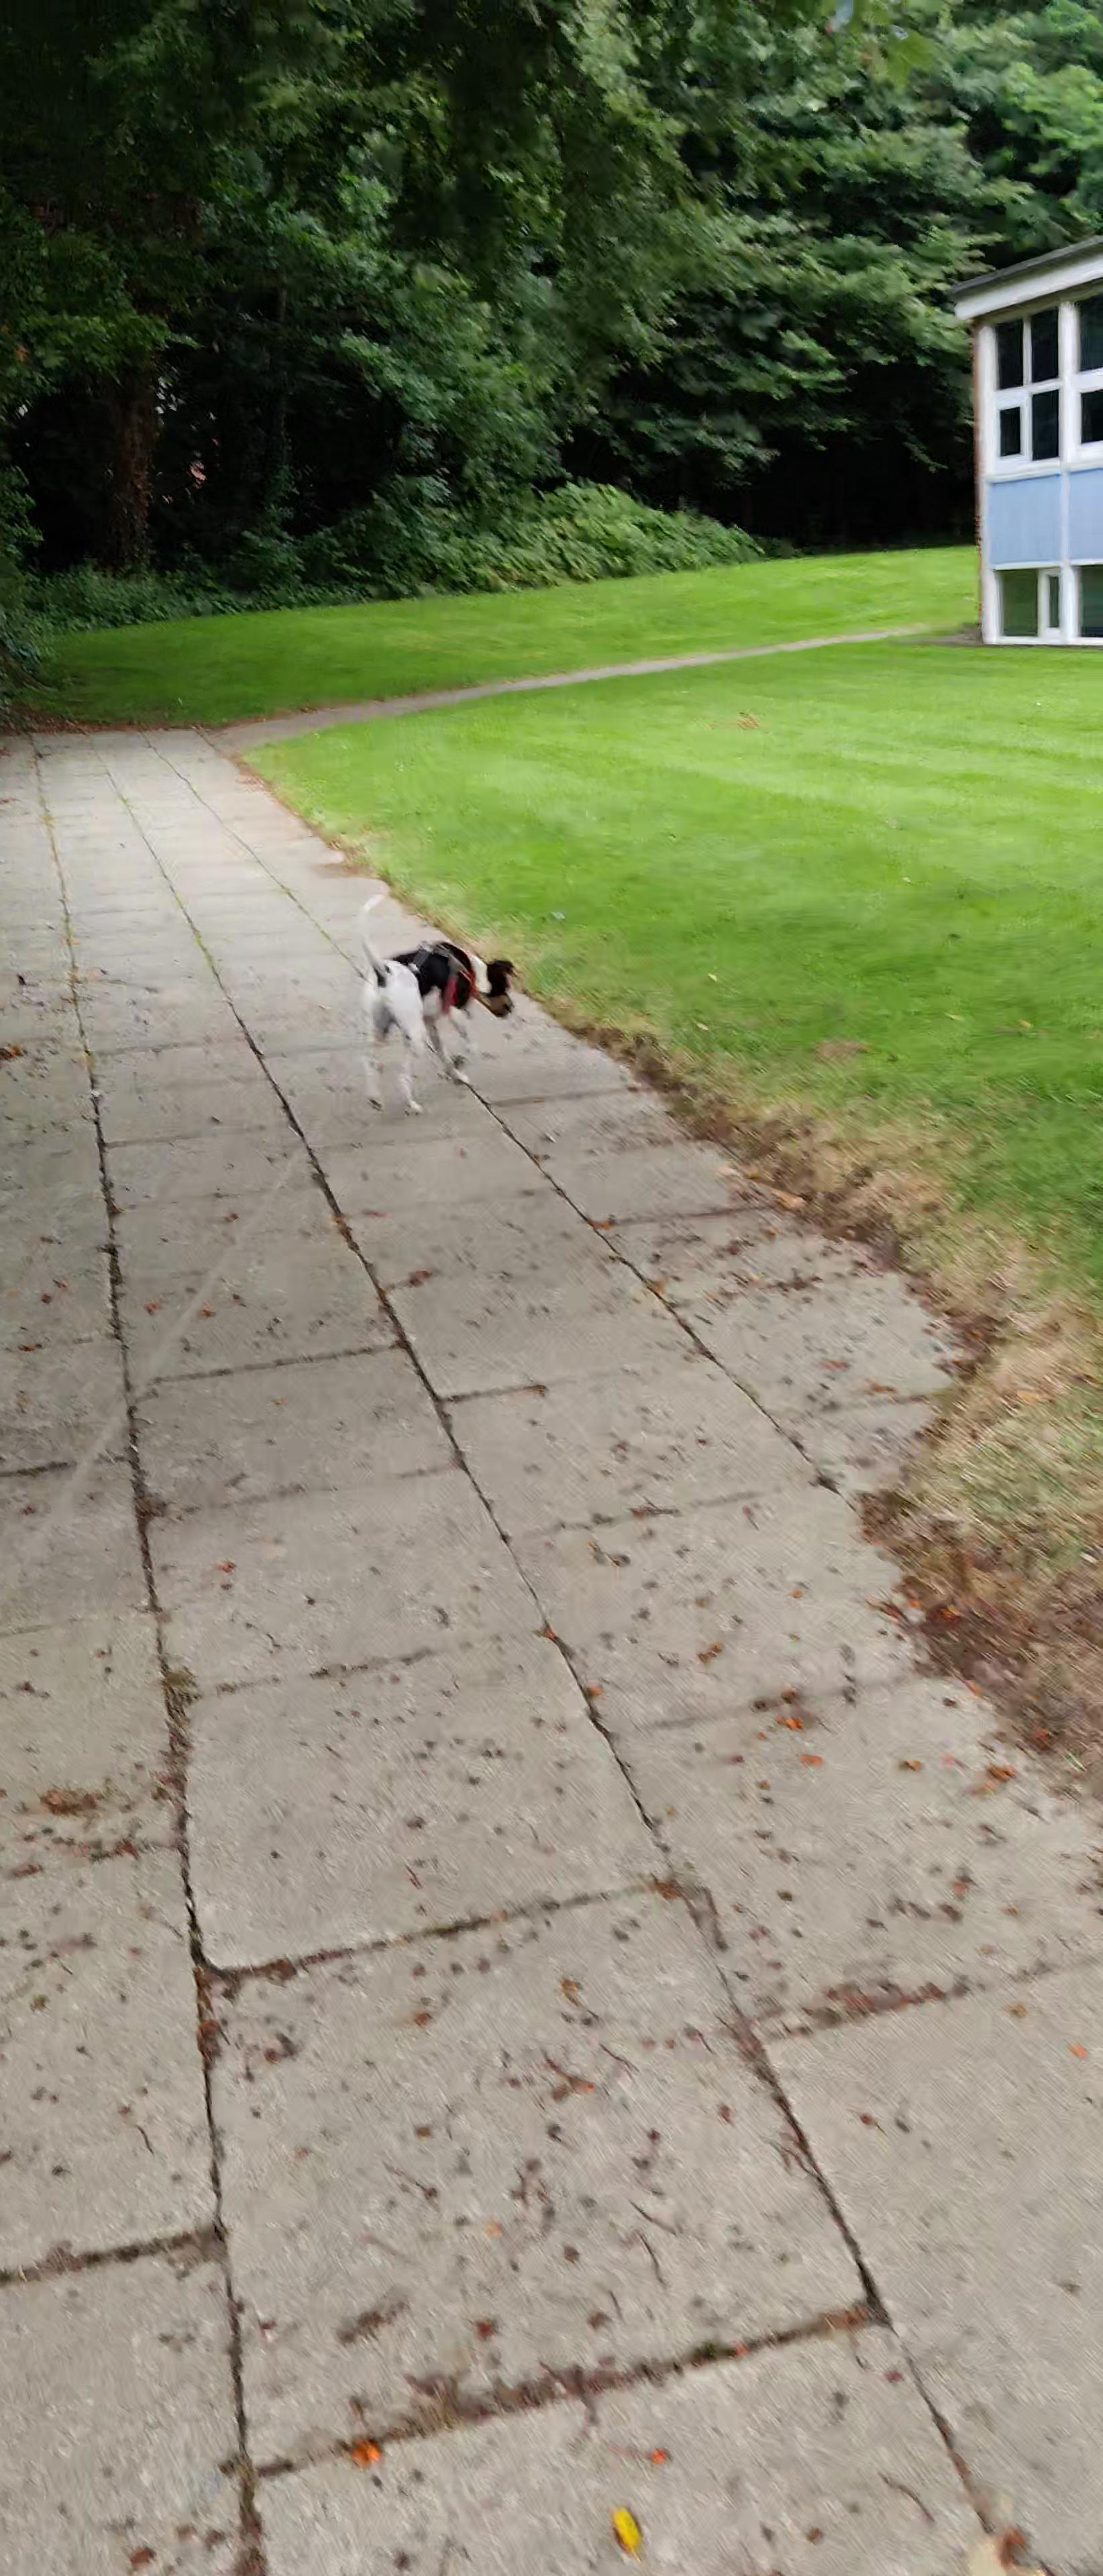Dog: (353, 885, 519, 1120)
